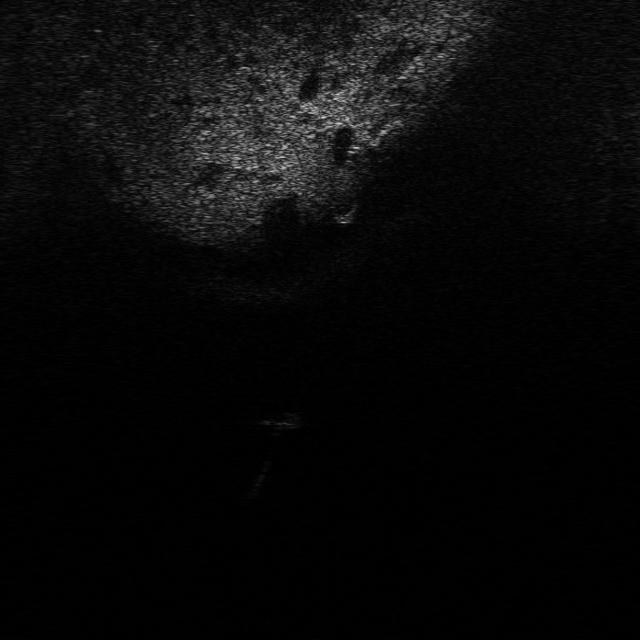ball: (323, 186, 362, 224)
cube: (250, 405, 304, 434)
